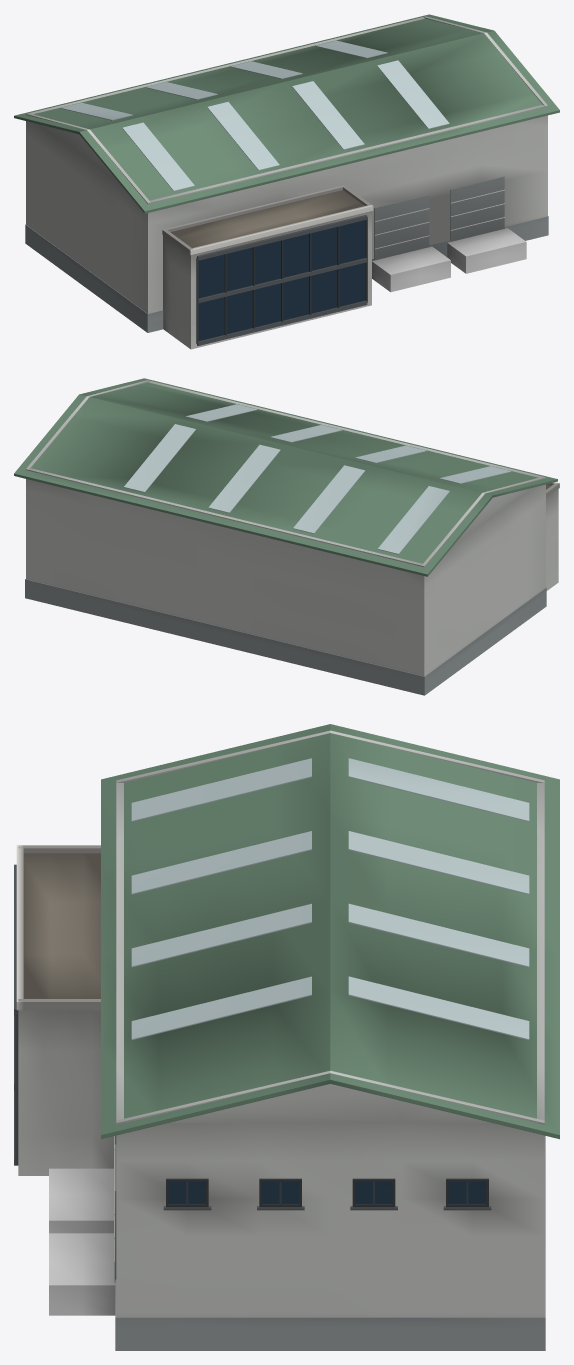
File: galpon-tlx3oTGf.glb
3 renders of one model, top to bottom at view 1: azimuth 30°, elevation 25°; view 2: azimuth 150°, elevation 25°; view 3: azimuth 270°, elevation 25°, orthographic. The views are drawn at different scales.
Visible parts, largest first — view 1: pieza, losa, pieza.008, losa.001, pieza.002, pieza.003, pieza.001, porton, porton.005, pieza.020, pieza.019, losa.008 (+14 smaller); view 2: pieza, losa.001, losa, pieza.001, losa.007, losa.003, losa.005, losa.009, mojinete, pieza.002, losa.006, losa.004 (+3 smaller); view 3: pieza, losa, losa.001, pieza.001, pieza.002, pieza.003, mojinete.001, pieza.020, pieza.019, losa.007, losa.005, losa.009 (+13 smaller).
Part boxes in pixels (left/top/right/bottom): pieza: left=26, top=17, right=547, bottom=313; losa: left=79, top=30, right=559, bottom=213; pieza.008: left=198, top=220, right=365, bottom=340; losa.001: left=14, top=14, right=493, bottom=133; pieza.002: left=163, top=211, right=371, bottom=349; pieza.003: left=170, top=190, right=364, bottom=247; pieza.001: left=25, top=216, right=548, bottom=332; porton: left=374, top=195, right=429, bottom=260; porton.005: left=450, top=176, right=504, bottom=241; pieza.020: left=447, top=228, right=526, bottom=273; pieza.019: left=372, top=246, right=450, bottom=292; losa.008: left=377, top=60, right=449, bottom=128; pieza: left=26, top=381, right=545, bottom=676; losa.001: left=14, top=394, right=492, bottom=576; losa: left=79, top=378, right=557, bottom=497; pieza.001: left=25, top=579, right=546, bottom=695; losa.007: left=208, top=444, right=280, bottom=513; losa.003: left=378, top=486, right=449, bottom=554; losa.005: left=293, top=465, right=365, bottom=533; losa.009: left=124, top=424, right=195, bottom=492; mojinete: left=422, top=476, right=545, bottom=566; pieza.002: left=546, top=489, right=558, bottom=590; losa.006: left=270, top=425, right=342, bottom=442; losa.004: left=355, top=445, right=426, bottom=463; pieza: left=116, top=783, right=544, bottom=1317; losa: left=101, top=724, right=330, bottom=1139; losa.001: left=330, top=724, right=559, bottom=1139; pieza.001: left=115, top=1135, right=545, bottom=1350; pieza.002: left=18, top=1010, right=113, bottom=1175; pieza.003: left=23, top=853, right=100, bottom=998; mojinete.001: left=116, top=1070, right=544, bottom=1122; pieza.020: left=49, top=1233, right=115, bottom=1315; pieza.019: left=49, top=1168, right=113, bottom=1233; losa.007: left=348, top=903, right=529, bottom=967; losa.005: left=348, top=831, right=529, bottom=894; losa.009: left=348, top=976, right=529, bottom=1040.
Size of the model in its own units: 27.5 by 10 by 17.84.
